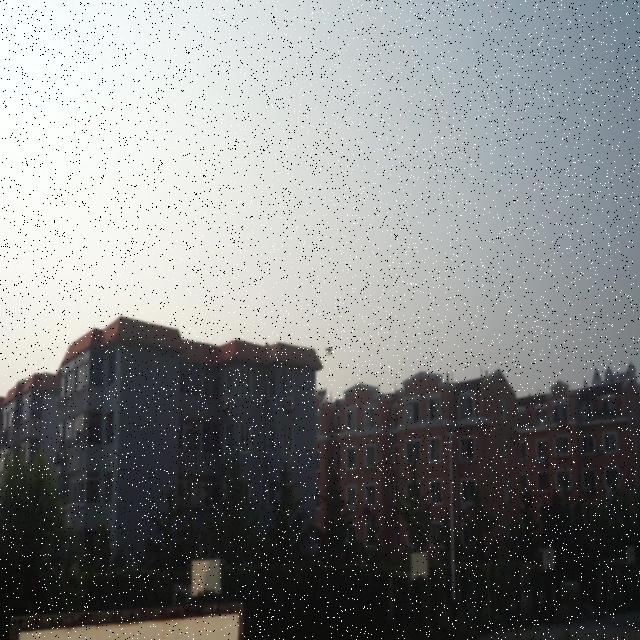UAV: (325, 347, 335, 356)
